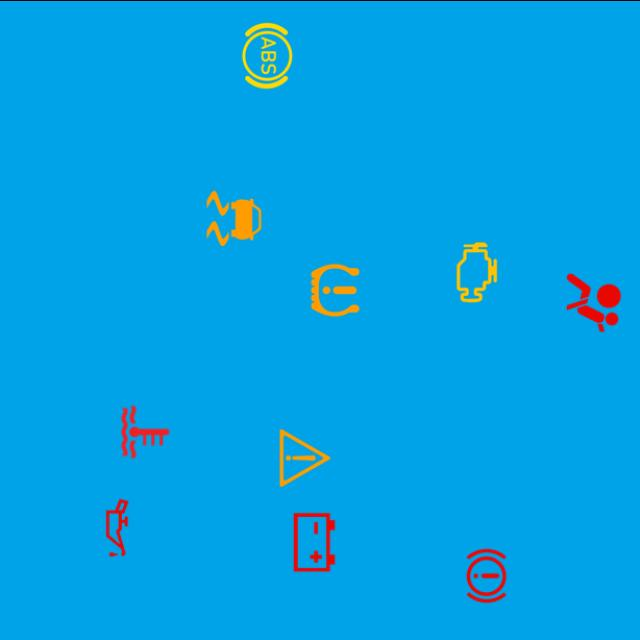Anti Lock Braking System: (232, 18, 304, 90)
Braking System Issue: (450, 539, 522, 611)
Charging System Issue: (278, 506, 350, 578)
Check Engine: (441, 235, 513, 308)
Electronic Stability Problem -ESP-: (198, 182, 270, 254)
Engine Overheating Warning Light: (110, 395, 182, 467)
Low Engine Oil Warning Light: (82, 491, 154, 563)
Low Tire Pressure Warning Light: (299, 253, 371, 326)
Master warning light: (269, 421, 341, 493)
SRS-Airbag: (558, 266, 630, 338)
